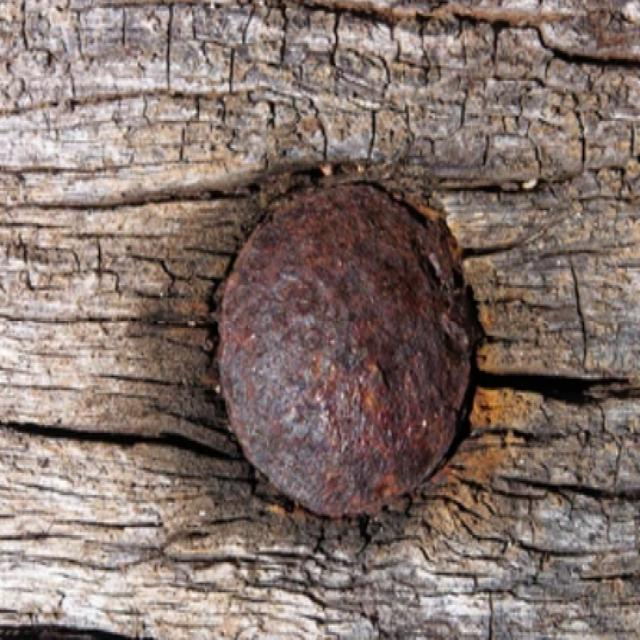corrosion: (202, 156, 494, 538)
